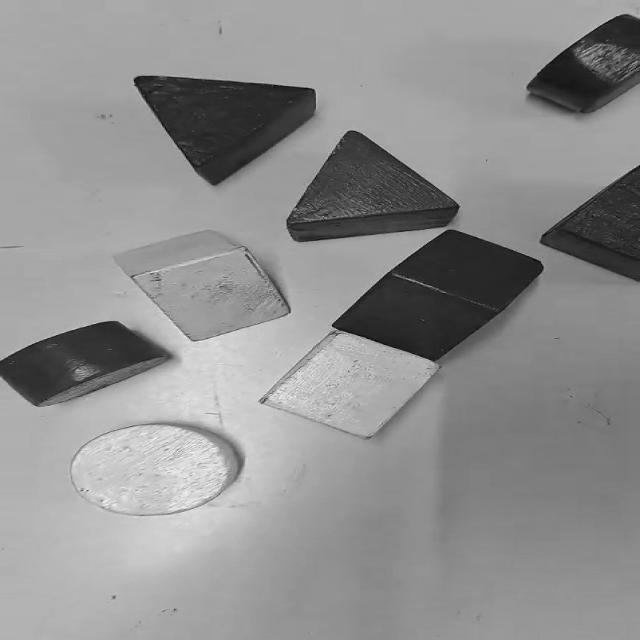bcircle: (527, 15, 639, 113)
btriangle: (134, 76, 315, 185)
rcircle: (0, 321, 168, 406)
rcube: (333, 230, 543, 360)
rtriangle: (287, 131, 459, 241)
ycircle: (70, 424, 241, 516)
ycube: (260, 331, 440, 438)
ytriangle: (114, 231, 289, 341)
